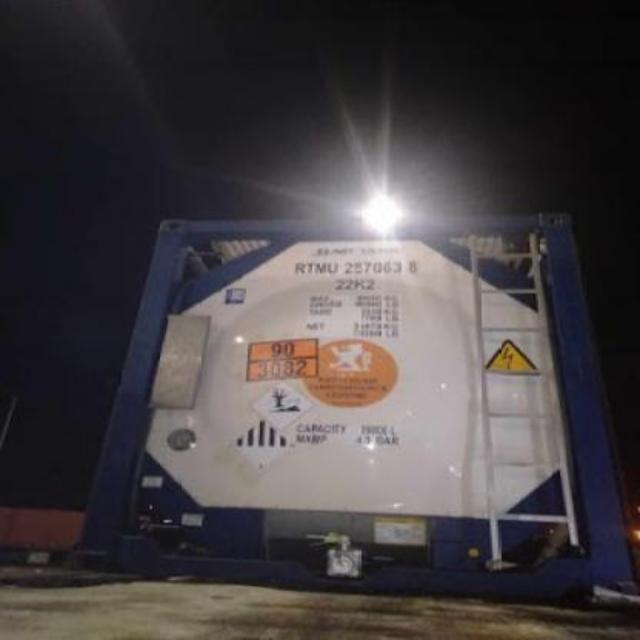0: (376, 256, 382, 278)
2: (342, 259, 354, 277)
3: (391, 256, 404, 278)
5: (352, 259, 364, 275)
6: (382, 257, 394, 275)
7: (362, 256, 372, 274)
8: (408, 259, 424, 275)
M: (316, 256, 328, 280)
R: (288, 255, 308, 278)
T: (304, 259, 316, 275)
U: (328, 258, 340, 274)
